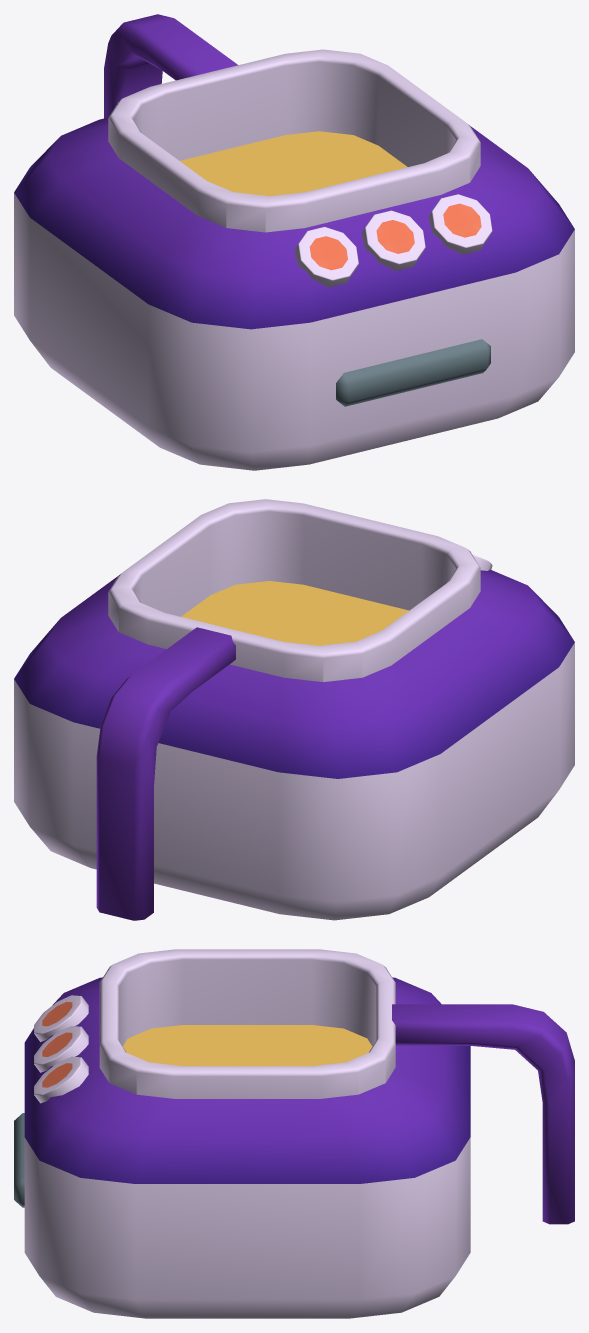
The model's file is Decor_Mayranga.fbx.
3 renders of one model, top to bottom at view 1: azimuth 30°, elevation 25°; view 2: azimuth 150°, elevation 25°; view 3: azimuth 270°, elevation 25°, orthographic. The views are drawn at different scales.
Visible parts, largest first — view 1: Decor_Mayranga; view 2: Decor_Mayranga; view 3: Decor_Mayranga.
Part boxes in pixels (x1,y1,x2,y2): Decor_Mayranga: (14, 14, 574, 470); Decor_Mayranga: (14, 499, 574, 920); Decor_Mayranga: (14, 949, 574, 1318).
Bounding box in the file's own units: 114 × 62.33 × 143.
